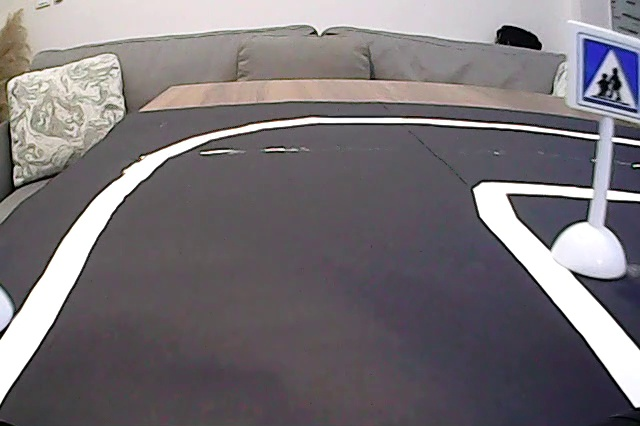school crossing: (570, 24, 640, 117)
